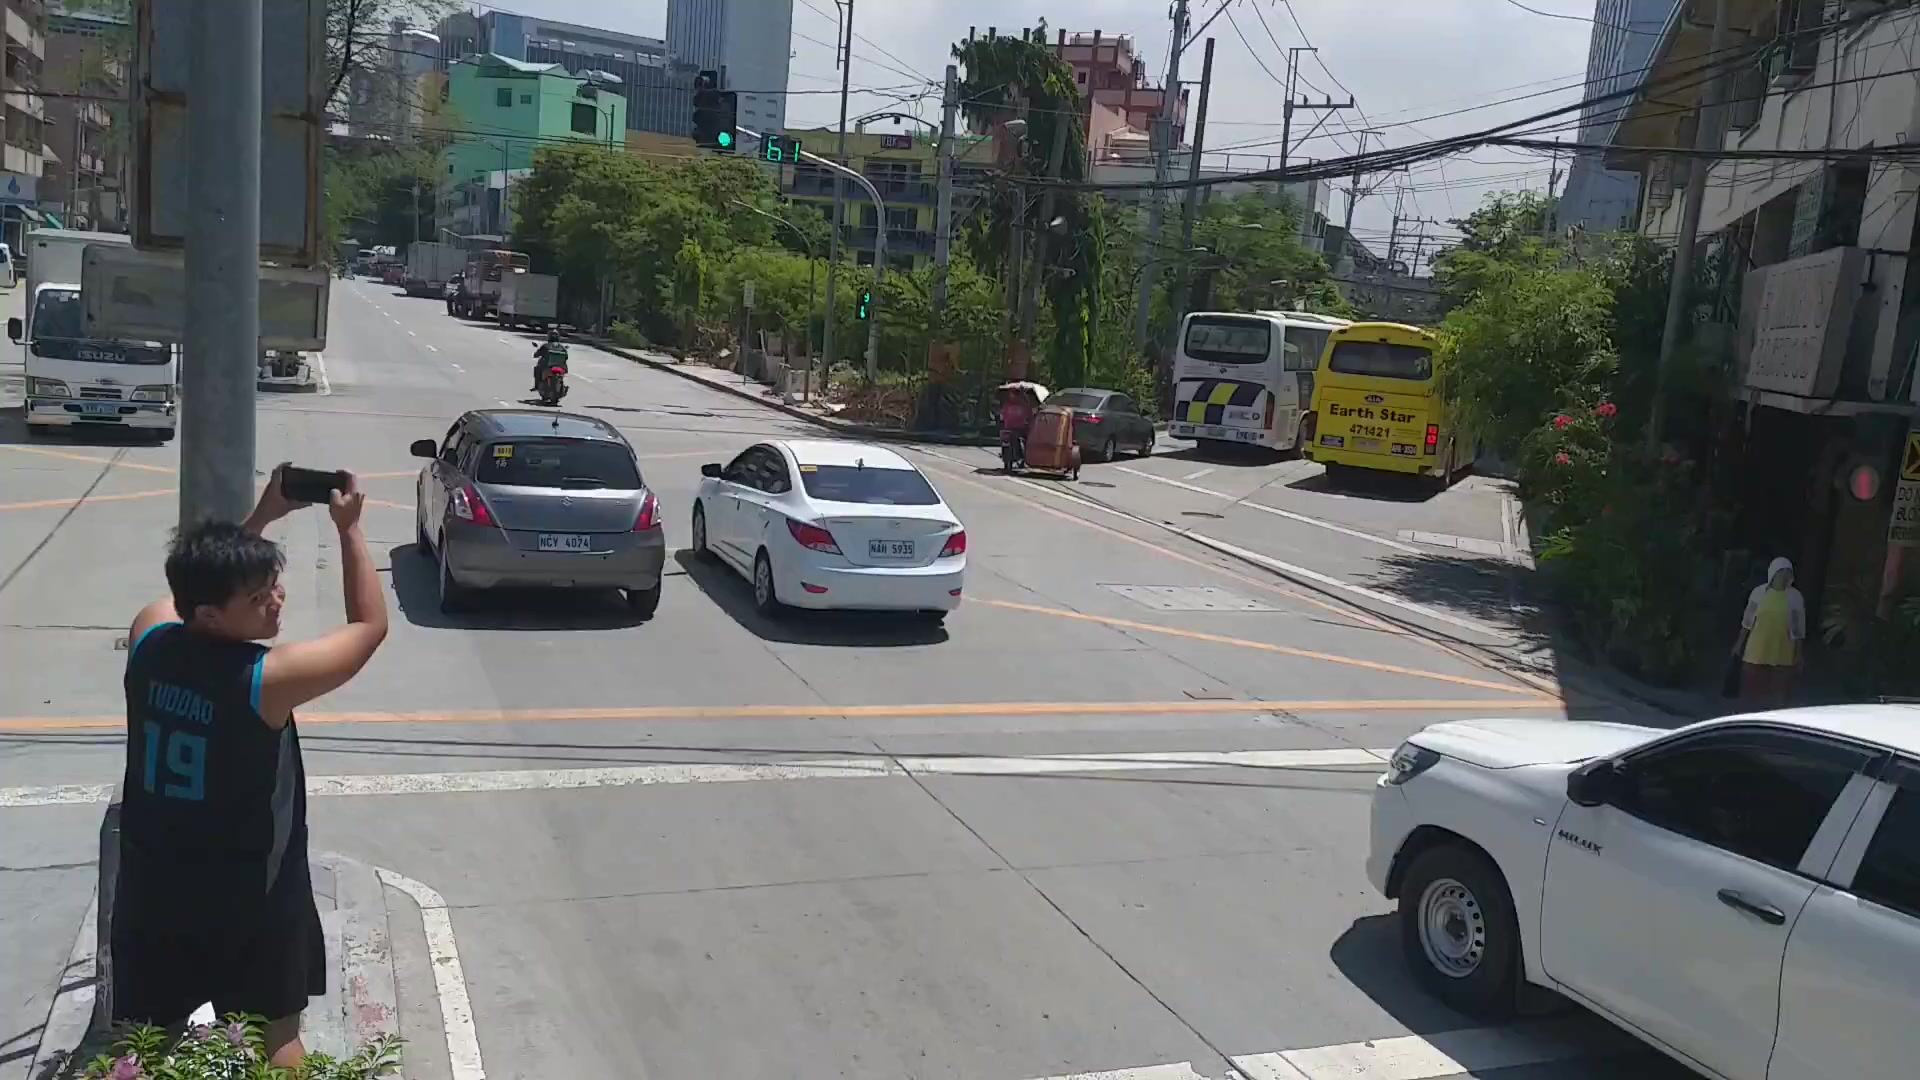car: (397, 402, 674, 633), (697, 434, 977, 639)
plate number: (533, 529, 596, 558), (869, 535, 924, 565)
